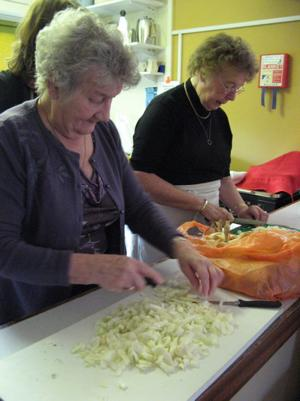person: (1, 8, 225, 330)
